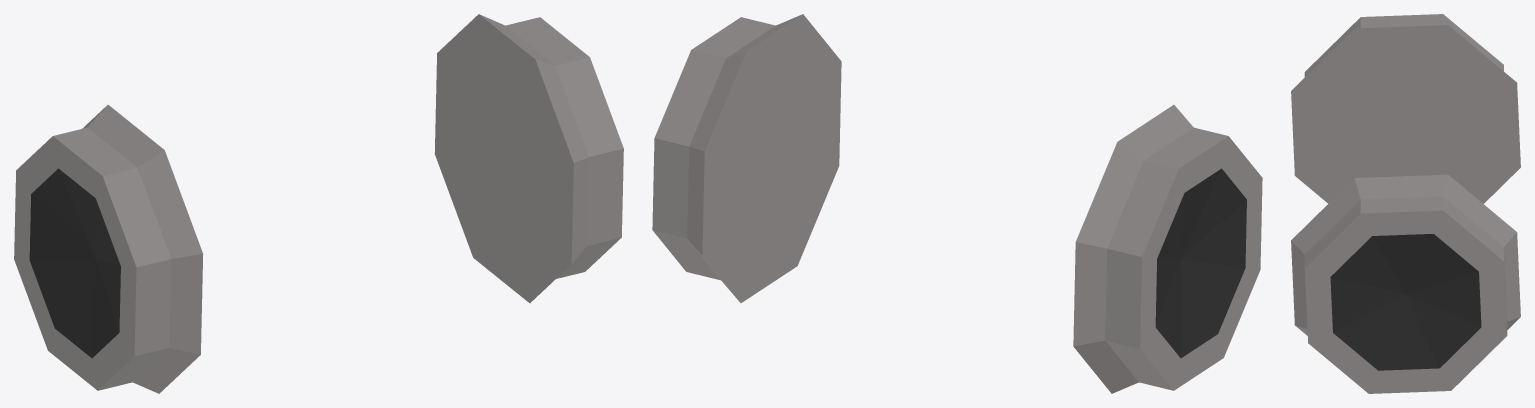
File: freight-train-wheel_F1.glb
3 views of the same model, side by side, from view 1: azimuth 30°, elevation 25°; view 2: azimuth 150°, elevation 25°; view 3: azimuth 270°, elevation 25° (orthographic). The views are drawn at different scales.
Visible parts, largest first — view 1: freight-train-wheel_F1; view 2: freight-train-wheel_F1; view 3: freight-train-wheel_F1.
Part boxes in pixels (x1,y1,x2,y2): freight-train-wheel_F1: (14, 14, 623, 393); freight-train-wheel_F1: (652, 14, 1262, 393); freight-train-wheel_F1: (1291, 14, 1520, 393).
Size of the model in its own units: 1.64 by 0.8091 by 0.8091.
1 material, 1 textured.
